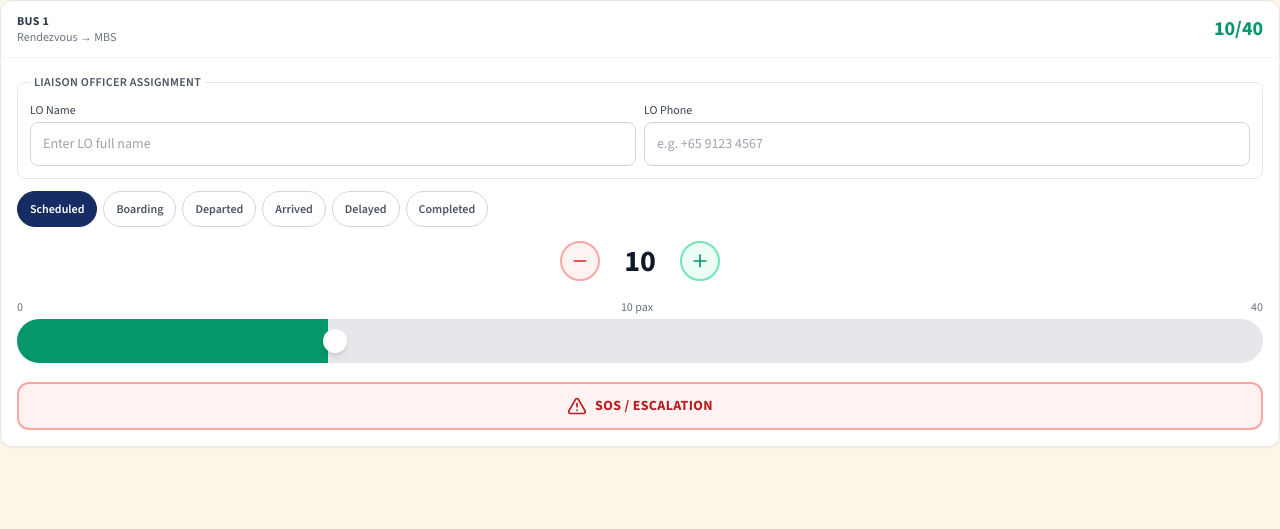
Test: BusCard › Discard reverts draft to server state
Click the radio button labelled "Boarding".
click(140, 209)  # box 103,191 -> 176,227
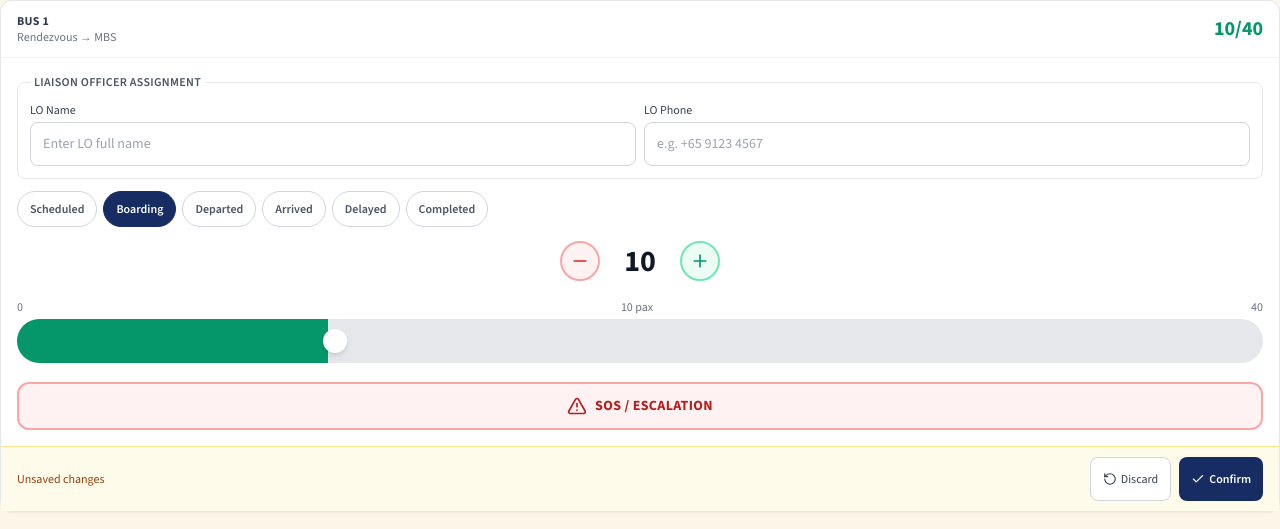
Expected: the button "Confirm" is shown, 1179,457 -> 1263,501
Click the button "Discard".
click(1131, 479)  # box 1090,457 -> 1171,501
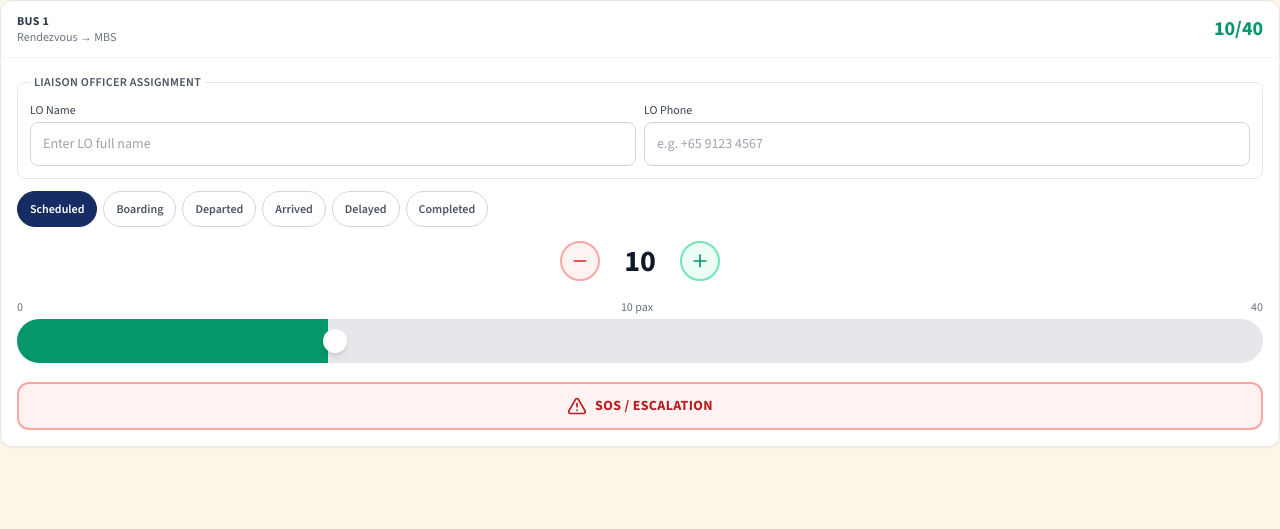
Expected: the button "Confirm" is gone
